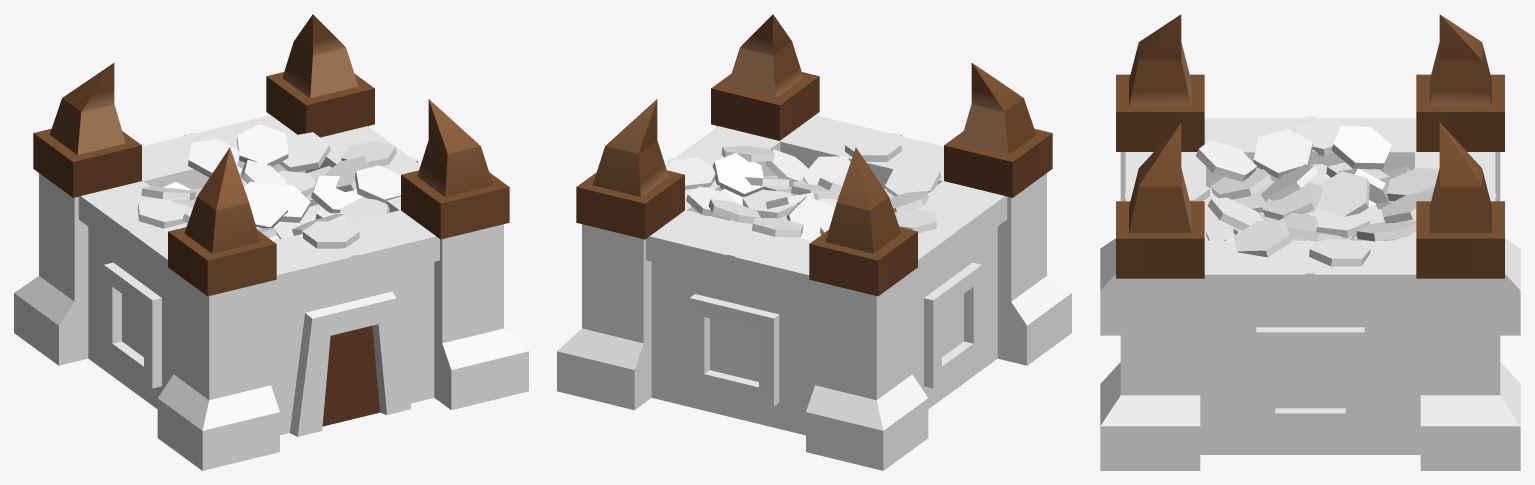
The model's file is Building_GoldMine_Lv3.fbx.
3 renders of one model, left to right at view 1: azimuth 30°, elevation 25°; view 2: azimuth 150°, elevation 25°; view 3: azimuth 270°, elevation 25°, orthographic. The views are drawn at different scales.
Parts seen in each view (by area): view 1: Building_GoldMine_Lv3, gold_3, gold_2; view 2: Building_GoldMine_Lv3, gold_3; view 3: Building_GoldMine_Lv3, gold_3, gold_2.
Part boxes in pixels (x1,y1,x2,y2): Building_GoldMine_Lv3: [14, 14, 528, 470]; gold_3: [138, 124, 400, 248]; gold_2: [273, 207, 339, 239]; Building_GoldMine_Lv3: [557, 14, 1071, 470]; gold_3: [666, 134, 941, 240]; Building_GoldMine_Lv3: [1100, 14, 1520, 470]; gold_3: [1183, 118, 1438, 266]; gold_2: [1232, 180, 1380, 238].
Size of the model in its own units: 0.7208 by 0.5942 by 0.7208.
